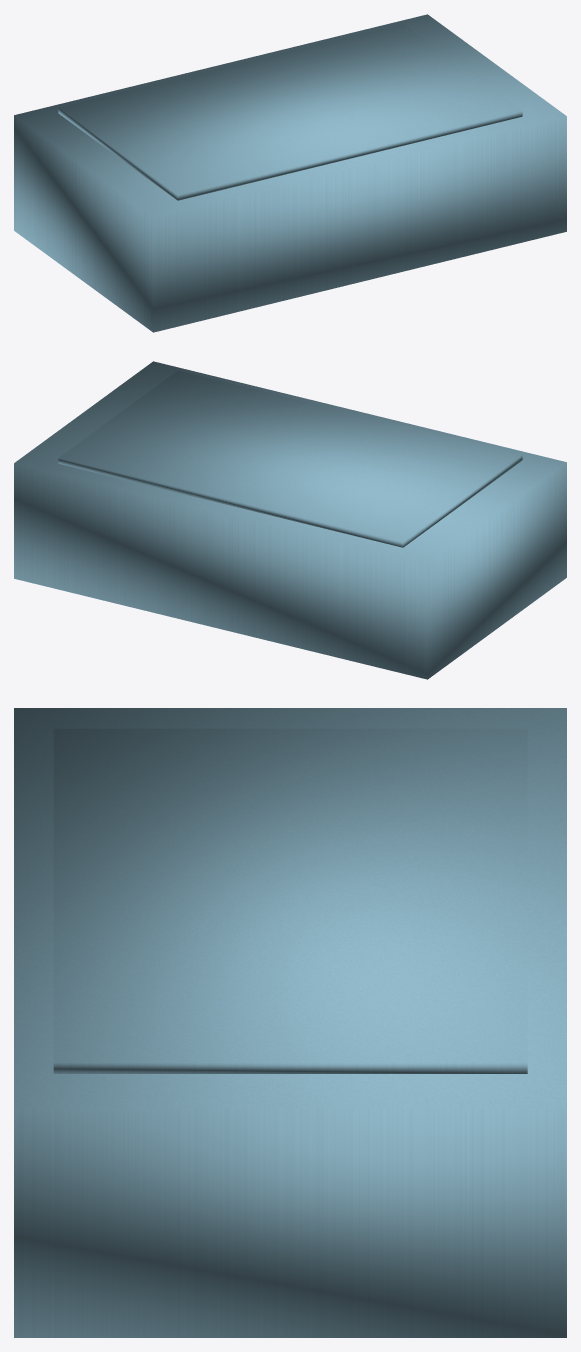
The picture shows the model from 3 angles, top to bottom: view 1: azimuth 30°, elevation 25°; view 2: azimuth 150°, elevation 25°; view 3: azimuth 270°, elevation 25°; orthographic projection. The views are drawn at different scales.
Visible parts, largest first — view 1: QuartzResonator__PSMAT__Glass, QuartzTop__PSMAT__Glass; view 2: QuartzResonator__PSMAT__Glass, QuartzTop__PSMAT__Glass; view 3: QuartzResonator__PSMAT__Glass, QuartzTop__PSMAT__Glass.
Boxes of the visible parts, <box> form: QuartzResonator__PSMAT__Glass: <box>14,14,566,332</box>; QuartzTop__PSMAT__Glass: <box>58,23,522,200</box>; QuartzResonator__PSMAT__Glass: <box>14,361,566,679</box>; QuartzTop__PSMAT__Glass: <box>58,370,522,547</box>; QuartzResonator__PSMAT__Glass: <box>14,708,566,1337</box>; QuartzTop__PSMAT__Glass: <box>53,728,527,1073</box>.
Bounding box in the file's own units: 0.006 × 0.00169 × 0.0035.
